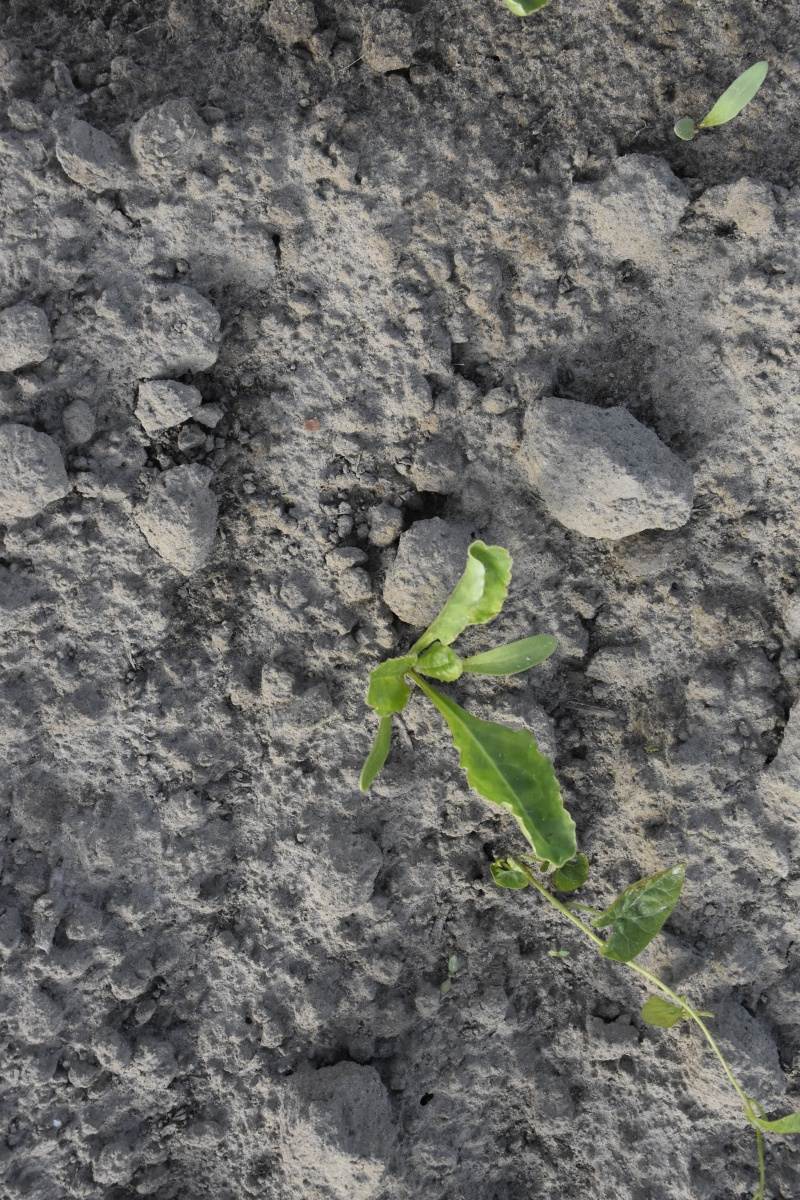field bindweed: (501, 858, 796, 1200)
sugar beet: (358, 538, 587, 865)
